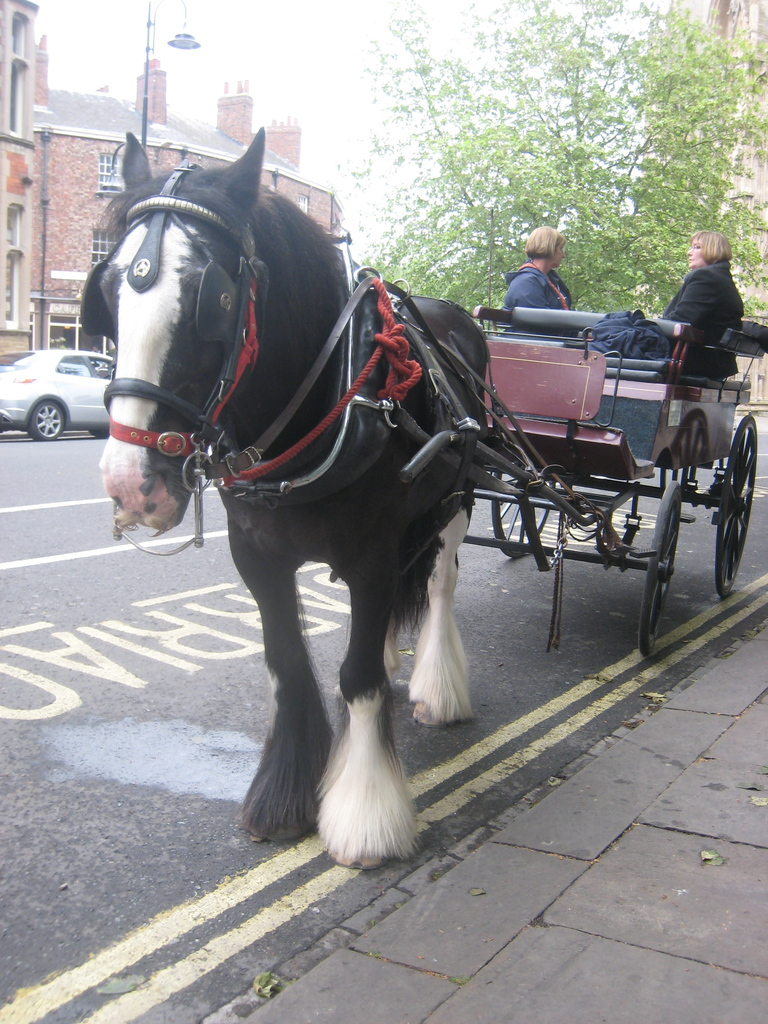horse: (80, 126, 487, 869)
